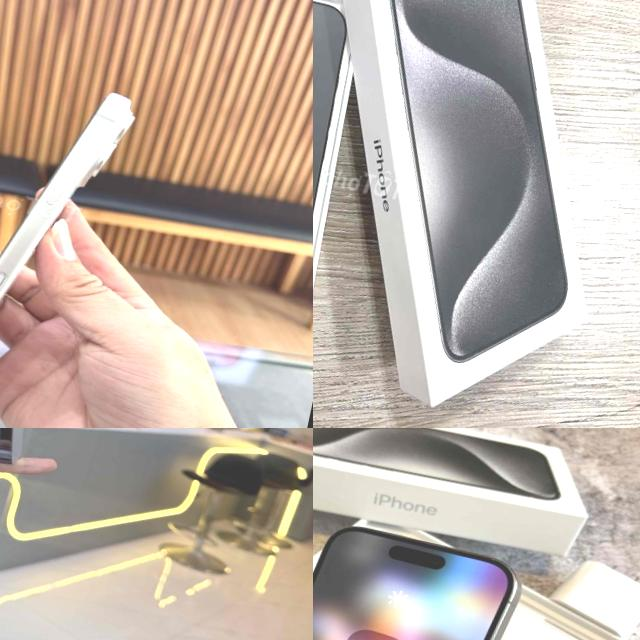gen_15: (313, 499, 535, 640)
gen_17: (0, 52, 159, 425)
